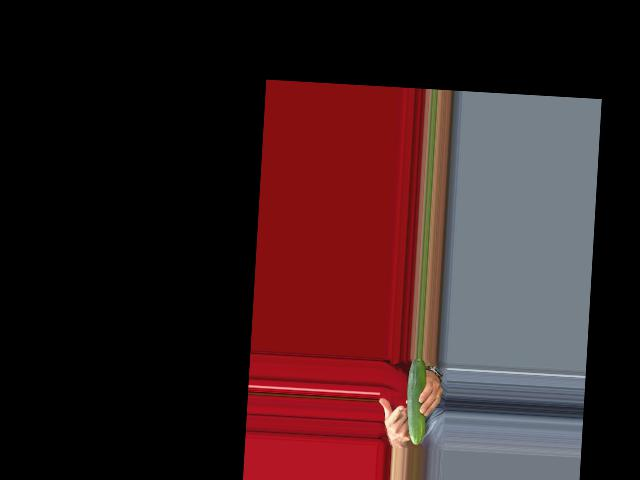cucumber: (404, 357, 429, 444)
